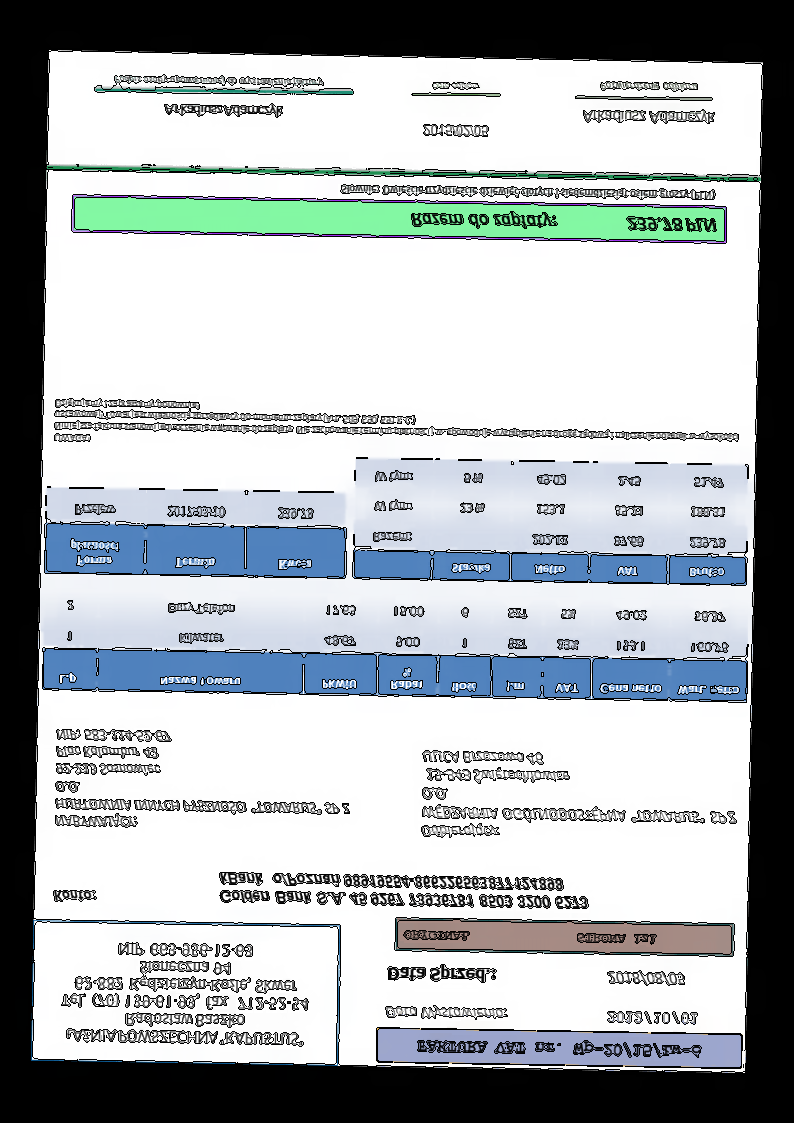Table: (41, 584, 749, 703), (352, 458, 749, 587), (42, 486, 348, 580)
TextBox: (52, 397, 740, 456), (52, 727, 354, 835), (418, 748, 738, 845), (58, 940, 312, 1049), (216, 869, 590, 911), (339, 182, 715, 204), (408, 209, 719, 235), (415, 1037, 705, 1061), (400, 927, 658, 949), (112, 72, 326, 91), (580, 105, 717, 126), (385, 962, 498, 986), (384, 1002, 511, 1023), (163, 101, 285, 120), (605, 1007, 702, 1026), (597, 79, 699, 95), (606, 970, 688, 987), (421, 122, 489, 140), (52, 887, 96, 905), (430, 81, 479, 93)
